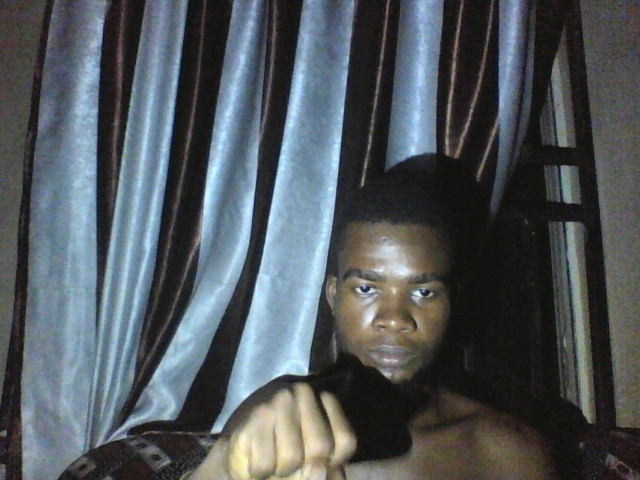yes: (214, 373, 368, 480)
